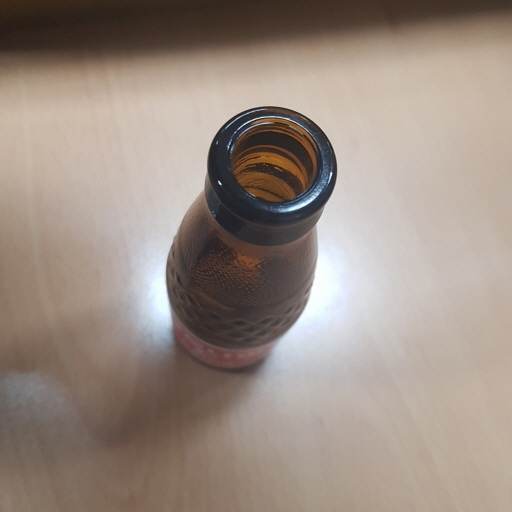Glass_3: (162, 97, 342, 383)
